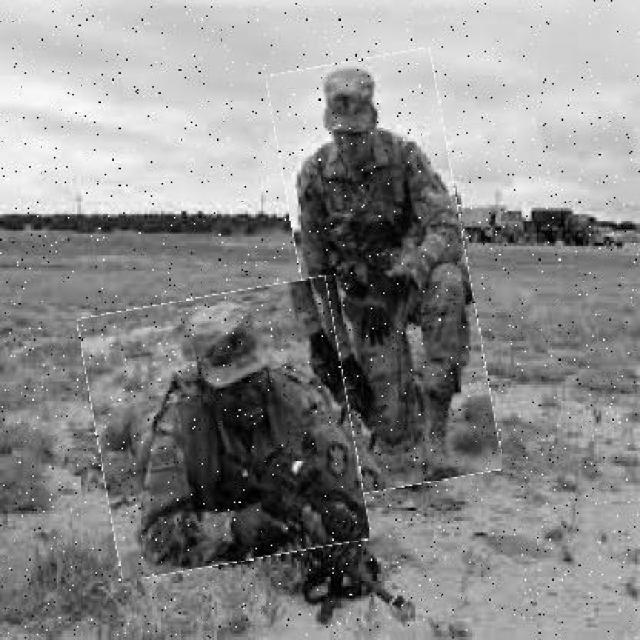Person: (286, 55, 486, 493), (89, 287, 363, 572)
